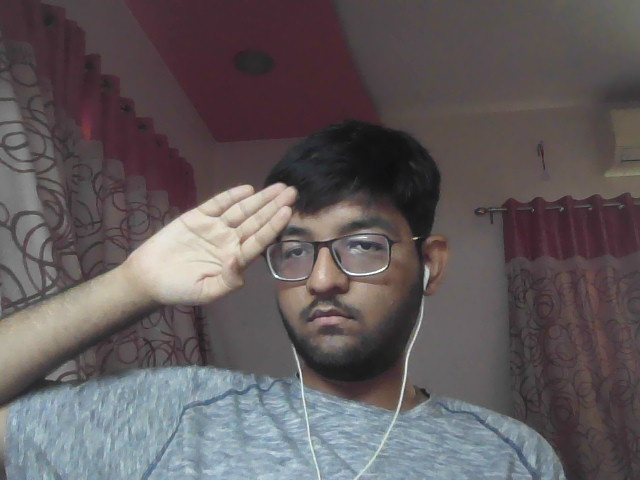નમસ્તે: (94, 169, 314, 310)
